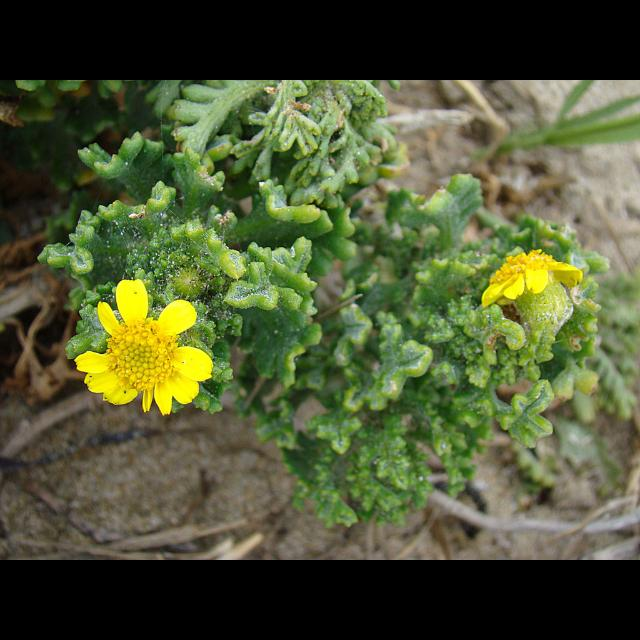Flower: (73, 279, 215, 416), (480, 248, 582, 306)
